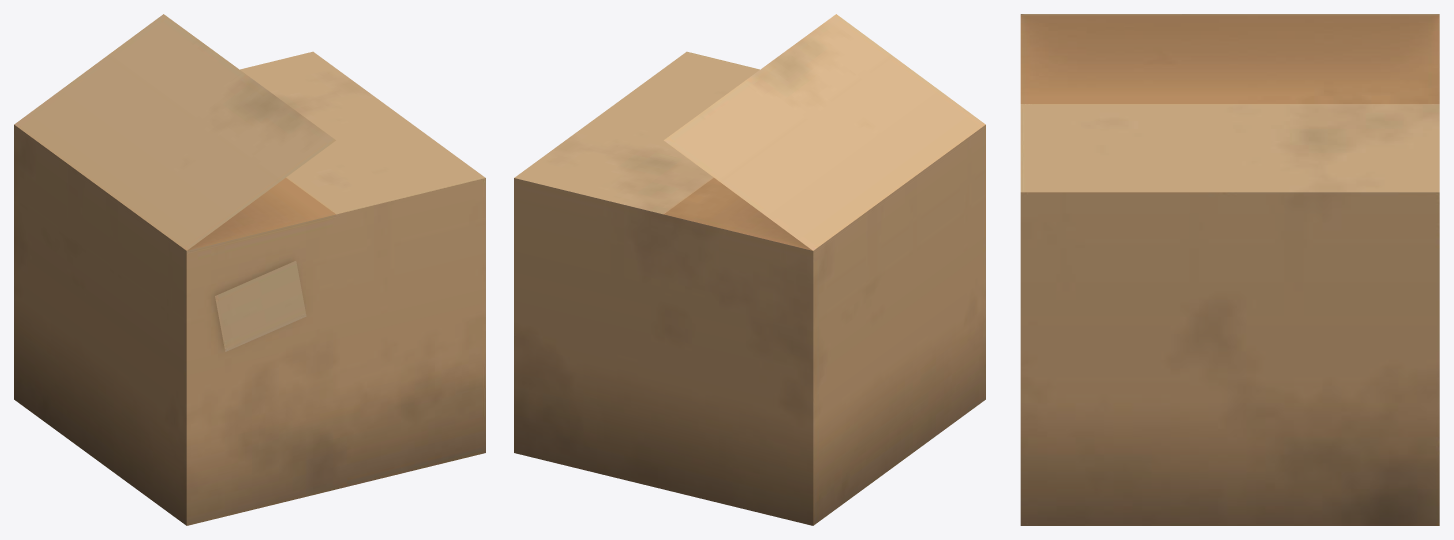
3 views of the same model, side by side, from view 1: azimuth 30°, elevation 25°; view 2: azimuth 150°, elevation 25°; view 3: azimuth 270°, elevation 25° (orthographic). The views are drawn at different scales.
Visible parts, largest first — view 1: box_B; view 2: box_B; view 3: box_B.
Boxes of the visible parts, x1,y1,x2,y2 form: box_B: (14, 14, 485, 525); box_B: (514, 14, 985, 525); box_B: (1020, 14, 1439, 525).
Bounding box in the file's own units: 0.1521 × 0.1696 × 0.1544.
Materials: 1 (1 with a texture image).
